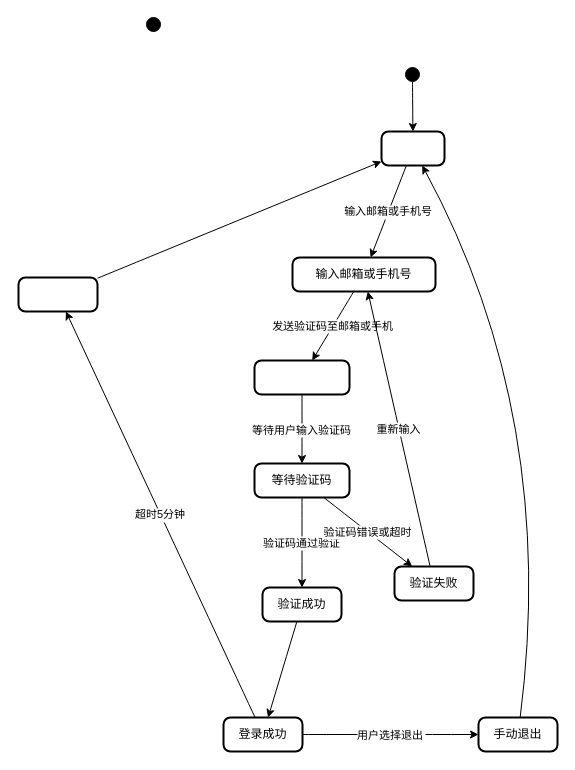
Some shapes in this 575 by 770 pixel diagram are drawn without their labels. Each missing label, with the centre of its shape:
"会话超时" belongs at (57,294).
"发送验证码" belongs at (301,377).
"未登录" belongs at (412,148).
